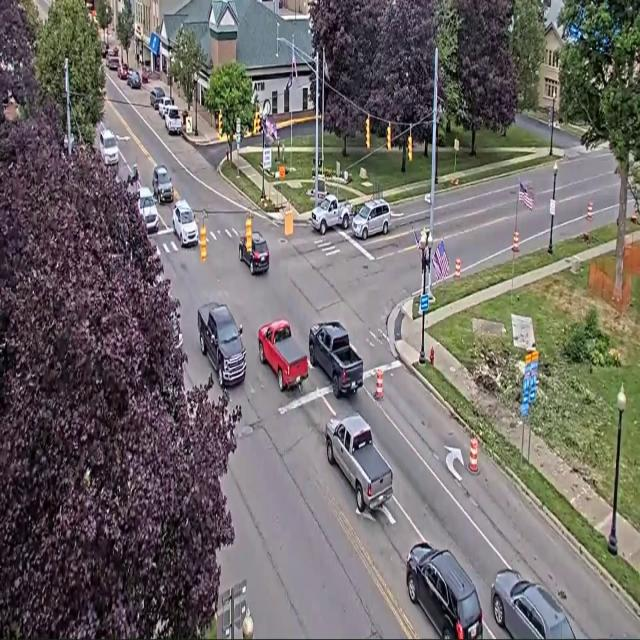car: (406, 542, 483, 639), (491, 570, 585, 639), (198, 303, 245, 388), (352, 200, 390, 239), (239, 232, 269, 274), (173, 200, 198, 247), (138, 187, 159, 232), (152, 166, 173, 203), (99, 129, 119, 165), (170, 311, 183, 348), (164, 106, 181, 134), (158, 96, 173, 119), (150, 88, 164, 110), (127, 71, 141, 88), (107, 53, 119, 70), (118, 63, 128, 79), (101, 41, 108, 58)
traffic signal: (245, 216, 252, 253), (200, 225, 206, 261), (253, 112, 261, 135), (366, 116, 370, 149), (218, 110, 222, 137), (387, 124, 391, 151), (408, 134, 412, 161)
truck: (325, 414, 392, 512), (309, 321, 363, 398), (258, 320, 308, 391), (311, 194, 352, 235)
